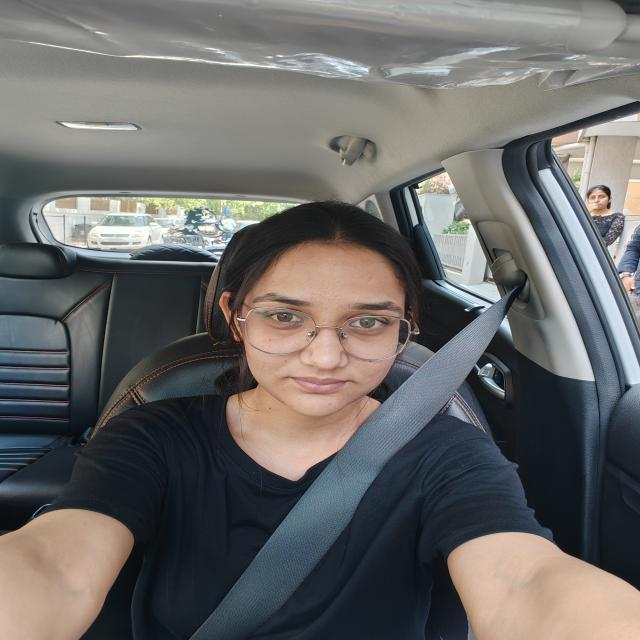seatbelt: (180, 273, 530, 640)
